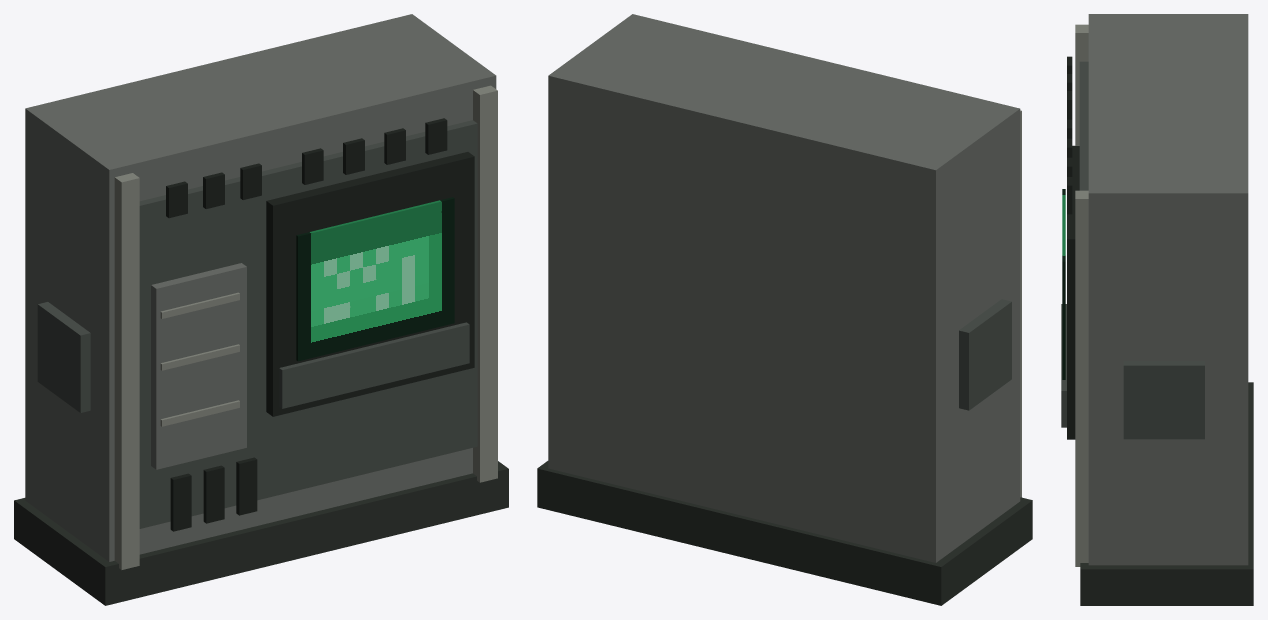
The model's file is CMU3DRMCMachinePropBig9.glb.
The picture shows the model from 3 angles, left to right: view 1: azimuth 30°, elevation 25°; view 2: azimuth 150°, elevation 25°; view 3: azimuth 270°, elevation 25°; orthographic projection. The views are drawn at different scales.
Parts seen in each view (by area): view 1: cast equipment cabinet, front recessed panel, bottom plinth, source monitor display, vertical frame (×2), monitor frame, left maintenance panel, lower monitor bezel, upper ventilation slot (×7), side bracket, lower intake slot (×3), panel seam (×3); view 2: cast equipment cabinet, bottom plinth, side bracket, vertical frame; view 3: cast equipment cabinet, bottom plinth, side bracket, vertical frame (×2), monitor frame, front recessed panel, source monitor display, lower monitor bezel.
Part boxes in pixels (x1,y1,x2,y2): cast equipment cabinet: (25,14,496,561); front recessed panel: (139,120,477,528); bottom plinth: (14,461,508,605); source monitor display: (296,197,454,361); vertical frame (×2): (114,85,497,569); monitor frame: (266,152,474,416); left maintenance panel: (151,263,246,469); lower monitor bezel: (279,322,469,408); upper ventilation slot (×7): (166,118,447,218); side bracket: (37,302,90,412); lower intake slot (×3): (170,457,257,531); panel seam (×3): (160,292,239,426); cast equipment cabinet: (548,14,1020,562); bottom plinth: (537,461,1032,605); side bracket: (959,299,1011,410); vertical frame: (1020,110,1021,497); cast equipment cabinet: (1088,14,1248,565); bottom plinth: (1080,382,1253,605); side bracket: (1123,361,1204,439); vertical frame (×2): (1075,24,1088,566); monitor frame: (1067,146,1079,439); front recessed panel: (1079,61,1088,190); source monitor display: (1062,189,1065,379); lower monitor bezel: (1061,304,1066,427).
Bounding box in the file's own units: 0.99 × 1 × 0.4266.
Materials: 6 (1 with a texture image).
